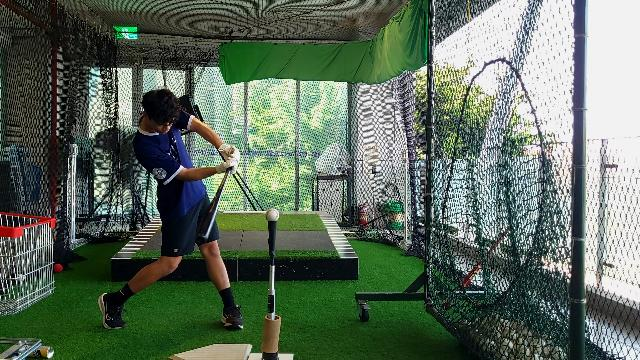bat: (196, 166, 230, 241)
